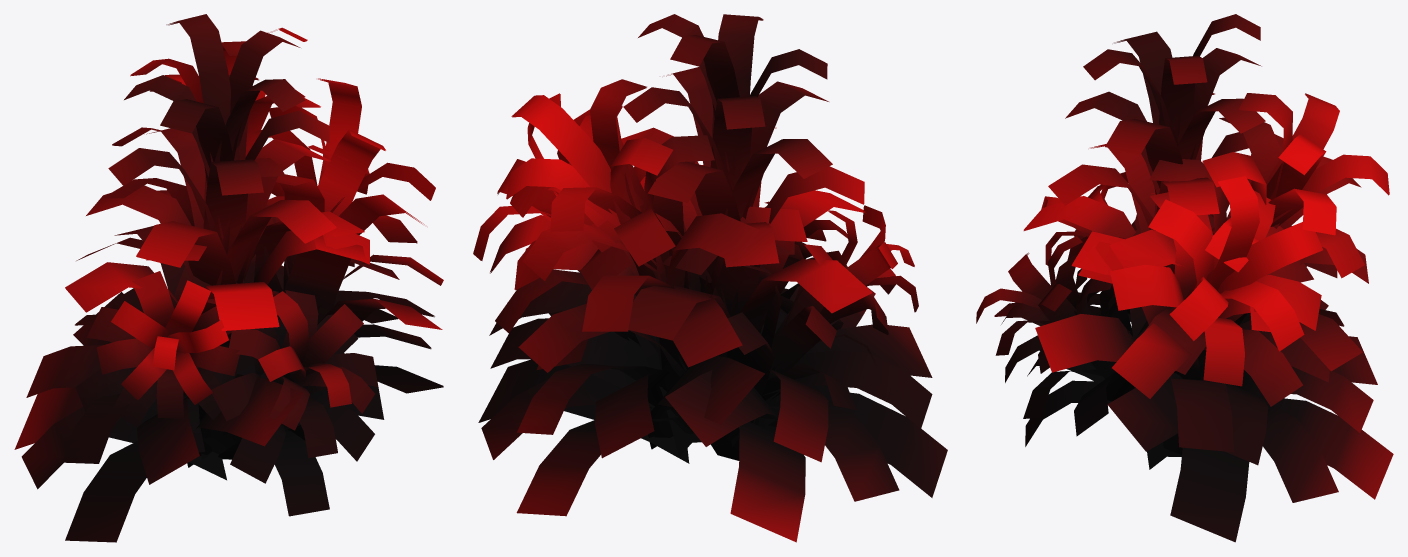
File: TropicalShrub03_AFS_high.FBX
The picture shows the model from 3 angles, left to right: view 1: azimuth 30°, elevation 25°; view 2: azimuth 150°, elevation 25°; view 3: azimuth 270°, elevation 25°; orthographic projection. The views are drawn at different scales.
Parts seen in each view (by area): view 1: TropicalShrub03_AFS_high; view 2: TropicalShrub03_AFS_high; view 3: TropicalShrub03_AFS_high.
Boxes of the visible parts, x1,y1,x2,y2 form: TropicalShrub03_AFS_high: (14, 14, 443, 542); TropicalShrub03_AFS_high: (473, 14, 947, 542); TropicalShrub03_AFS_high: (976, 14, 1393, 542).
Size of the model in its own units: 0.9132 by 0.9728 by 0.8476.
